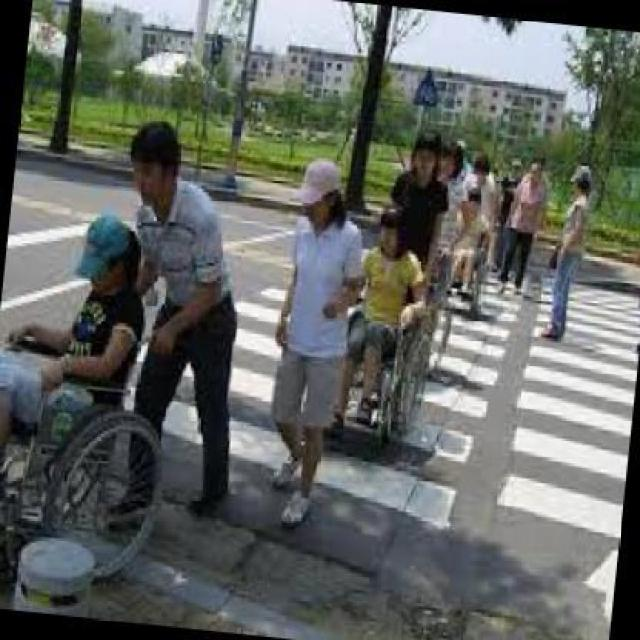Person: (0, 208, 189, 604), (98, 122, 268, 528), (259, 155, 370, 528), (326, 198, 446, 459), (379, 129, 452, 291), (542, 162, 598, 340), (495, 155, 553, 302), (441, 186, 497, 320)
